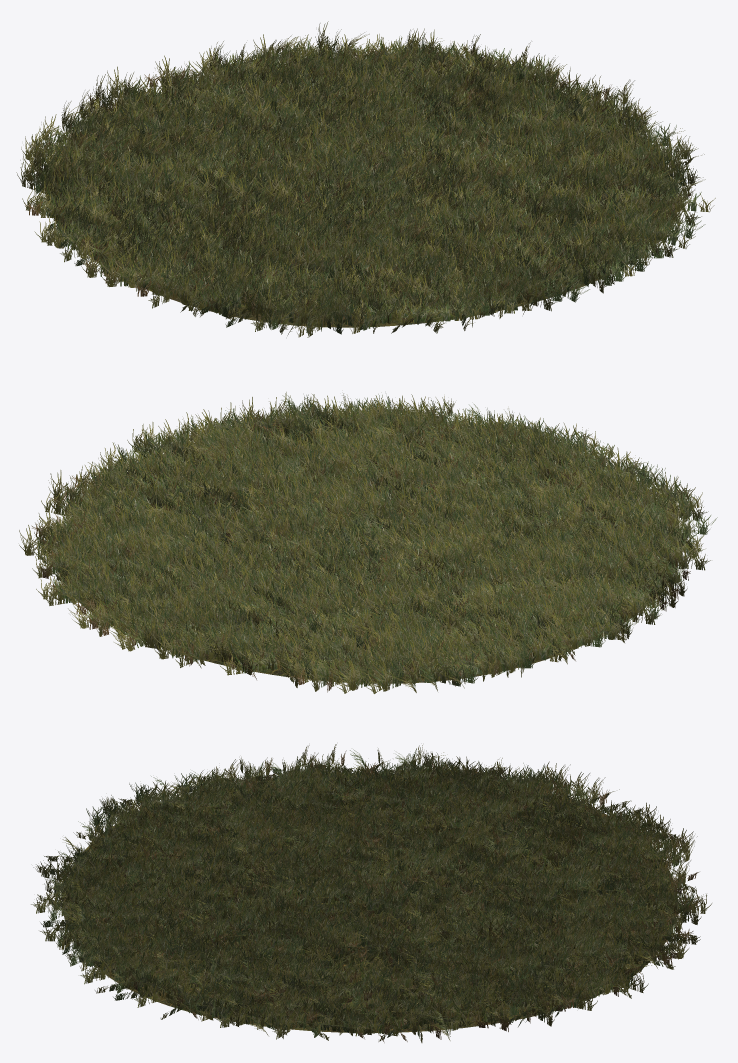
File: grass.glb
3 views of the same model, one above another, from view 1: azimuth 30°, elevation 25°; view 2: azimuth 150°, elevation 25°; view 3: azimuth 270°, elevation 25° (orthographic).
Visible parts, largest first — view 1: Plane, Plane|Plate3.002|Dupli|225.0.0.0.0.0.0.0.0.0, Plane|Plate1.003|Dupli|504.0.0.0.0.0.0.0.0.0, Plane|Plate3.003|Dupli|362.0.0.0.0.0.0.0.0.0, Plane|Plate1.003|Dupli|516.0.0.0.0.0.0.0.0.0, Plane|Plate3.003|Dupli|74.0.0.0.0.0.0.0.0.0, Plane|Plate1.003|Dupli|990.0.0.0.0.0.0.0.0.0, Plane|Plate3.003|Dupli|1616.0.0.0.0.0.0.0.0.0, Plane|Plate1.003|Dupli|468.0.0.0.0.0.0.0.0.0, Plane|Plate1.003|Dupli|498.0.0.0.0.0.0.0.0.0, Plane|Plate1.003|Dupli|954.0.0.0.0.0.0.0.0.0, Plane|Plate3.003|Dupli|518.0.0.0.0.0.0.0.0.0 (+17 smaller); view 2: Plane, Plane|Plate1.003|Dupli|1560.0.0.0.0.0.0.0.0.0, Plane|Plate1.003|Dupli|1758.0.0.0.0.0.0.0.0.0, Plane|Plate3.003|Dupli|1478.0.0.0.0.0.0.0.0.0, Plane|Plate1.003|Dupli|486.0.0.0.0.0.0.0.0.0, Plane|Plate1.003|Dupli|1080.0.0.0.0.0.0.0.0.0, Plane|Plate3.002|Dupli|1977.0.0.0.0.0.0.0.0.0, Plane|Plate1.003|Dupli|1998.0.0.0.0.0.0.0.0.0, Plane|Plate1.003|Dupli|522.0.0.0.0.0.0.0.0.0, Plane|Plate3.003|Dupli|752.0.0.0.0.0.0.0.0.0, Plane|Plate1.003|Dupli|1512.0.0.0.0.0.0.0.0.0, Plane|Plate1.003|Dupli|1692.0.0.0.0.0.0.0.0.0 (+14 smaller); view 3: Plane, Plane|Plate1.003|Dupli|1518.0.0.0.0.0.0.0.0.0, Plane|Plate1.003|Dupli|1344.0.0.0.0.0.0.0.0.0, Plane|Plate1.003|Dupli|954.0.0.0.0.0.0.0.0.0, Plane|Plate1.003|Dupli|1506.0.0.0.0.0.0.0.0.0, Plane|Plate1.003|Dupli|1488.0.0.0.0.0.0.0.0.0, Plane|Plate1.003|Dupli|1986.0.0.0.0.0.0.0.0.0, Plane|Plate3.003|Dupli|962.0.0.0.0.0.0.0.0.0, Plane|Plate1.003|Dupli|1008.0.0.0.0.0.0.0.0.0, Plane|Plate3.003|Dupli|548.0.0.0.0.0.0.0.0.0, Plane|Plate1.003|Dupli|840.0.0.0.0.0.0.0.0.0, Plane|Plate1.003|Dupli|1998.0.0.0.0.0.0.0.0.0 (+13 smaller).
Boxes of the visible parts, x1,y1,x2,y2 form: Plane: (45,62,675,327); Plane|Plate3.002|Dupli|225.0.0.0.0.0.0.0.0.0: (391,297,467,323); Plane|Plate1.003|Dupli|504.0.0.0.0.0.0.0.0.0: (100,255,178,286); Plane|Plate3.003|Dupli|362.0.0.0.0.0.0.0.0.0: (350,295,410,333); Plane|Plate1.003|Dupli|516.0.0.0.0.0.0.0.0.0: (175,274,245,316); Plane|Plate3.003|Dupli|74.0.0.0.0.0.0.0.0.0: (463,279,535,310); Plane|Plate1.003|Dupli|990.0.0.0.0.0.0.0.0.0: (498,265,556,311); Plane|Plate3.003|Dupli|1616.0.0.0.0.0.0.0.0.0: (40,216,117,245); Plane|Plate1.003|Dupli|468.0.0.0.0.0.0.0.0.0: (259,287,328,327); Plane|Plate1.003|Dupli|498.0.0.0.0.0.0.0.0.0: (80,245,153,277); Plane|Plate1.003|Dupli|954.0.0.0.0.0.0.0.0.0: (629,185,701,226); Plane|Plate3.003|Dupli|518.0.0.0.0.0.0.0.0.0: (181,280,258,310); Plane: (57,426,678,683); Plane|Plate1.003|Dupli|1560.0.0.0.0.0.0.0.0.0: (589,586,660,624); Plane|Plate1.003|Dupli|1758.0.0.0.0.0.0.0.0.0: (530,623,598,657); Plane|Plate3.003|Dupli|1478.0.0.0.0.0.0.0.0.0: (42,573,113,605); Plane|Plate1.003|Dupli|486.0.0.0.0.0.0.0.0.0: (618,537,693,568); Plane|Plate1.003|Dupli|1080.0.0.0.0.0.0.0.0.0: (153,628,224,659); Plane|Plate3.002|Dupli|1977.0.0.0.0.0.0.0.0.0: (220,647,291,675); Plane|Plate1.003|Dupli|1998.0.0.0.0.0.0.0.0.0: (375,654,433,691); Plane|Plate1.003|Dupli|522.0.0.0.0.0.0.0.0.0: (637,482,708,521); Plane|Plate3.003|Dupli|752.0.0.0.0.0.0.0.0.0: (127,424,201,456); Plane|Plate1.003|Dupli|1512.0.0.0.0.0.0.0.0.0: (48,470,119,504); Plane|Plate1.003|Dupli|1692.0.0.0.0.0.0.0.0.0: (549,613,624,642); Plane: (62,773,677,1032); Plane|Plate1.003|Dupli|1518.0.0.0.0.0.0.0.0.0: (444,995,513,1030); Plane|Plate1.003|Dupli|1344.0.0.0.0.0.0.0.0.0: (614,935,689,960); Plane|Plate1.003|Dupli|954.0.0.0.0.0.0.0.0.0: (132,968,196,1007); Plane|Plate1.003|Dupli|1506.0.0.0.0.0.0.0.0.0: (350,1003,422,1036); Plane|Plate1.003|Dupli|1488.0.0.0.0.0.0.0.0.0: (414,997,487,1020); Plane|Plate1.003|Dupli|1986.0.0.0.0.0.0.0.0.0: (617,828,694,851); Plane|Plate3.003|Dupli|962.0.0.0.0.0.0.0.0.0: (63,899,136,922); Plane|Plate1.003|Dupli|1008.0.0.0.0.0.0.0.0.0: (80,947,147,984); Plane|Plate3.003|Dupli|548.0.0.0.0.0.0.0.0.0: (332,1008,403,1036); Plane|Plate1.003|Dupli|840.0.0.0.0.0.0.0.0.0: (159,944,234,969); Plane|Plate1.003|Dupli|1998.0.0.0.0.0.0.0.0.0: (588,800,658,824).
Size of the model in its own units: 16.04 by 1.06 by 16.21.
Materials: 4 (4 with a texture image).
